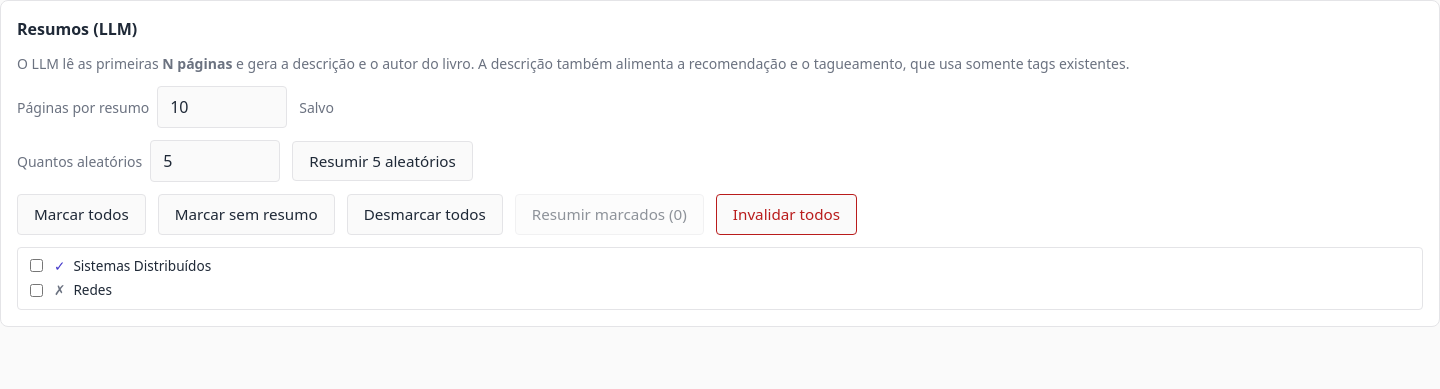
Test: AdminSummaries › summarizes only the books still missing a summary
Expected: the checkbox labelled "✗ Redes" is shown, 30,284 -> 43,297
Step 1. Click the button "Marcar sem resumo" → (246, 214), box 158,194 -> 335,235
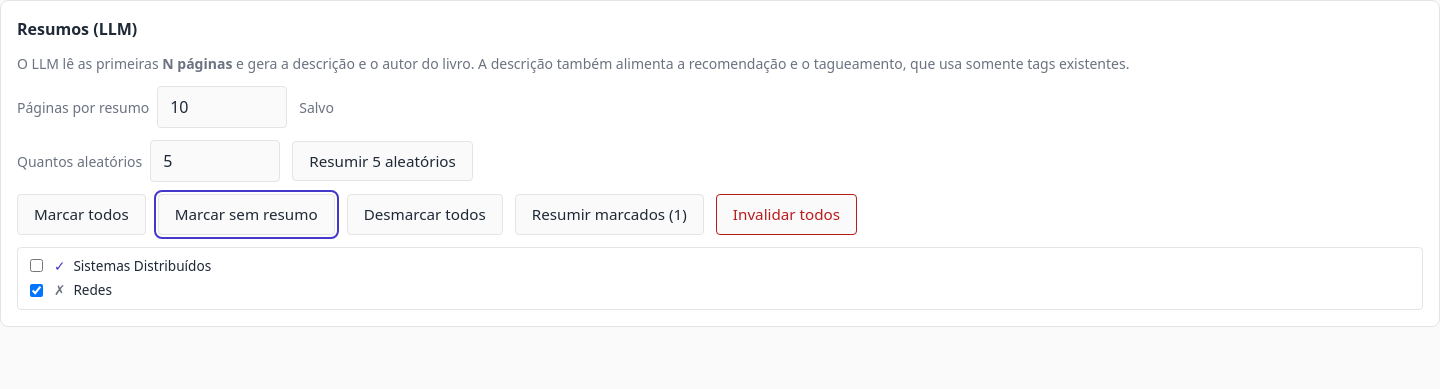
Step 2. Click the button "Resumir marcados (1)" → (609, 214), box 515,194 -> 704,235
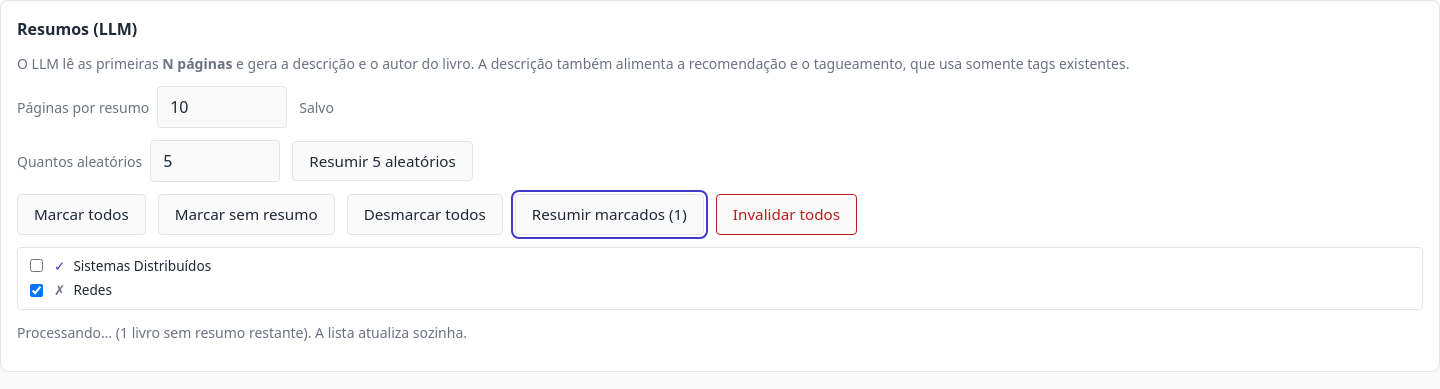
Expected: the text "Processando" is shown, 17,323 -> 120,342
